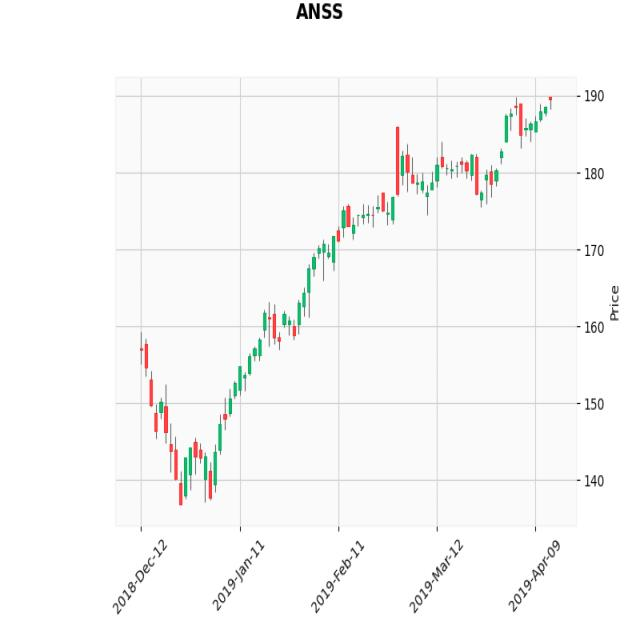Double-Bottom: (152, 373, 245, 516)
